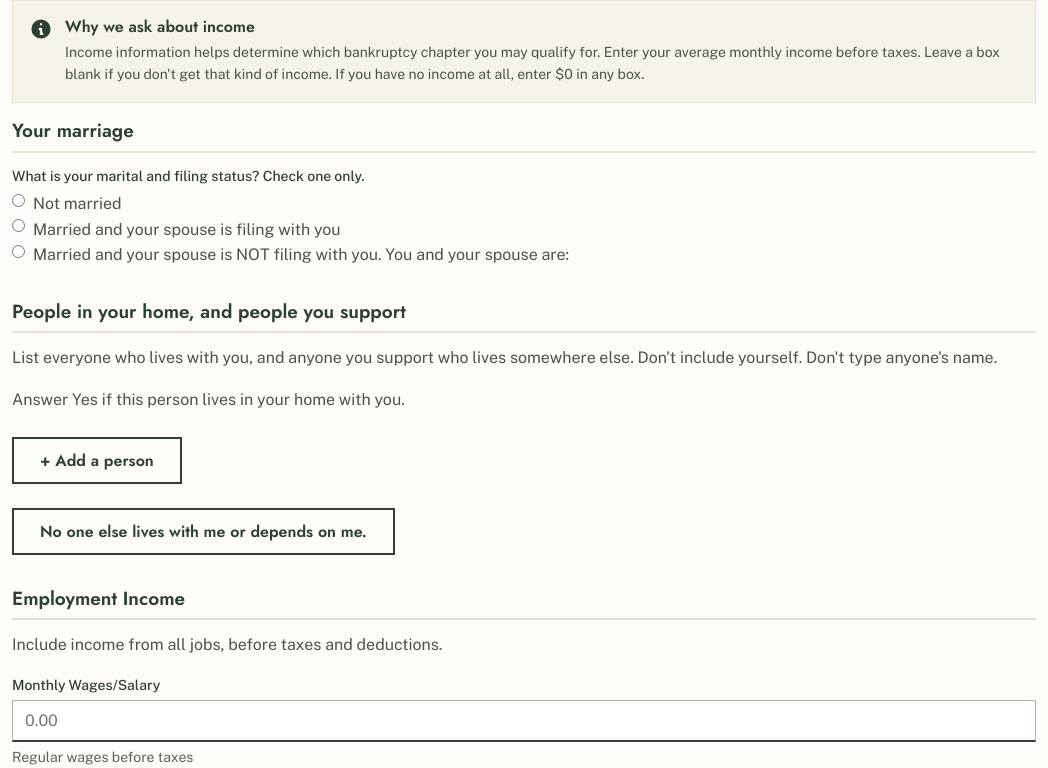
IncomeInfoStep, family first › the spouse filing answer says DigniFi prepares forms for one person
What coordinates should you click on to do the following:
click the radio button labelled "Married and your spouse is filing with you"
I would click on:
 (18, 226)
Its box is [12,219,25,232].
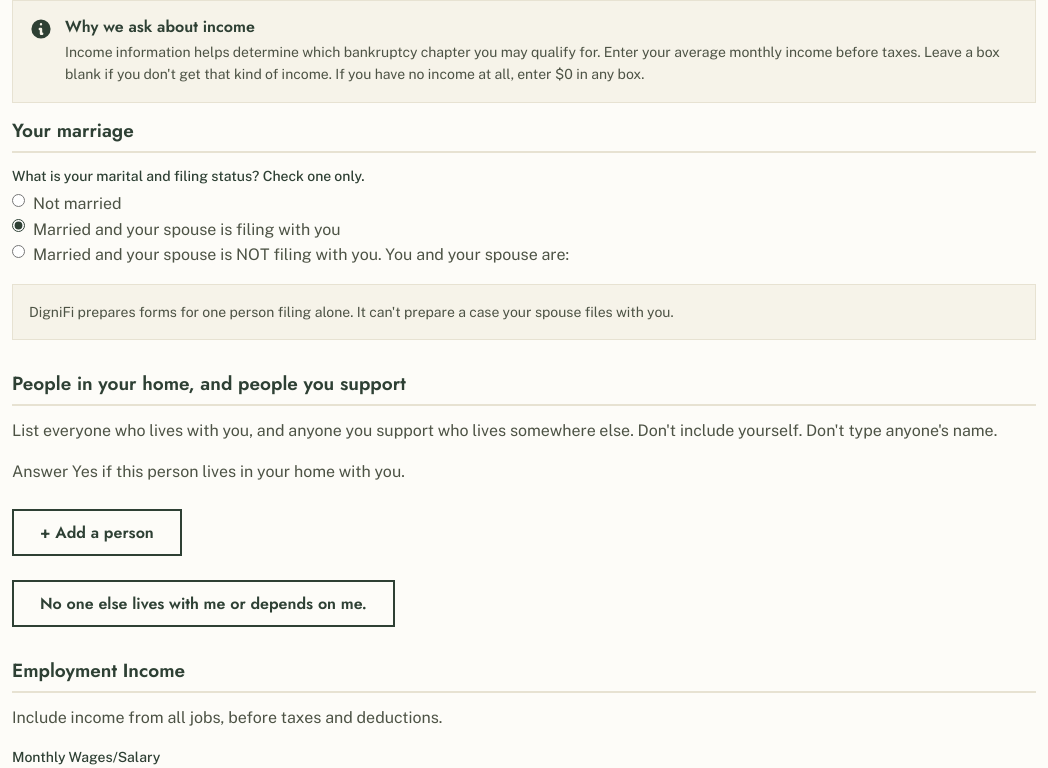
Check: the text "DigniFi prepares forms for one person filing alone. It can't prepare a case your spouse files with you." is shown, box [29,304,674,320]
